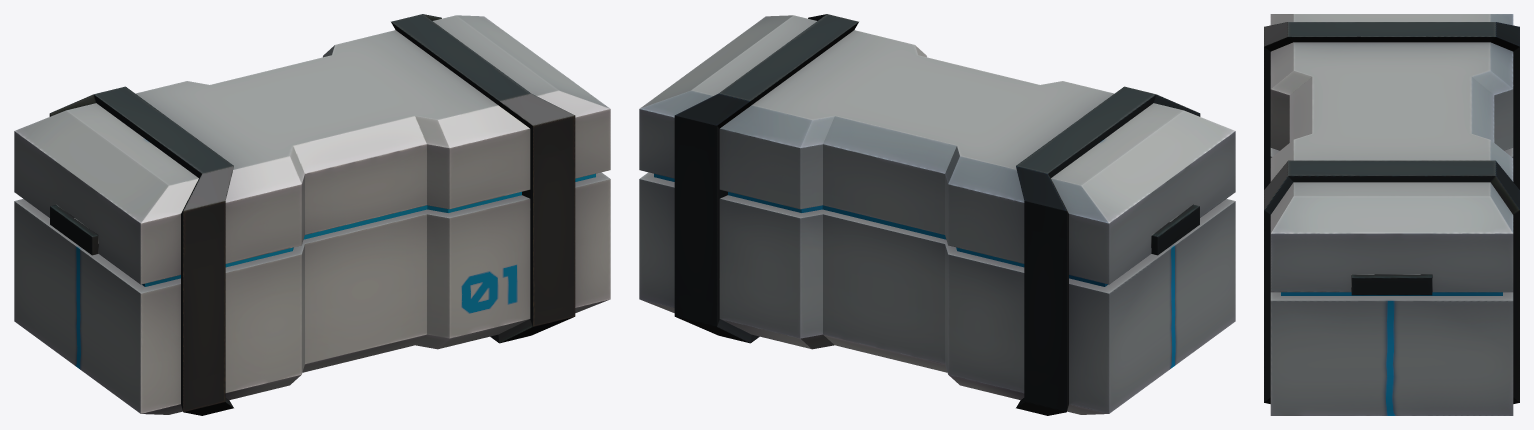
Rendered from SM_LongBox 1.fbx.
The picture shows the model from 3 angles, left to right: view 1: azimuth 30°, elevation 25°; view 2: azimuth 150°, elevation 25°; view 3: azimuth 270°, elevation 25°; orthographic projection. The views are drawn at different scales.
Parts seen in each view (by area): view 1: Cube.003; view 2: Cube.003; view 3: Cube.003.
Boxes of the visible parts, x1,y1,x2,y2 form: Cube.003: [14, 14, 610, 415]; Cube.003: [639, 14, 1235, 415]; Cube.003: [1264, 14, 1519, 415].
Bounding box in the file's own units: 441 × 211 × 211.
1 material, 1 textured.
